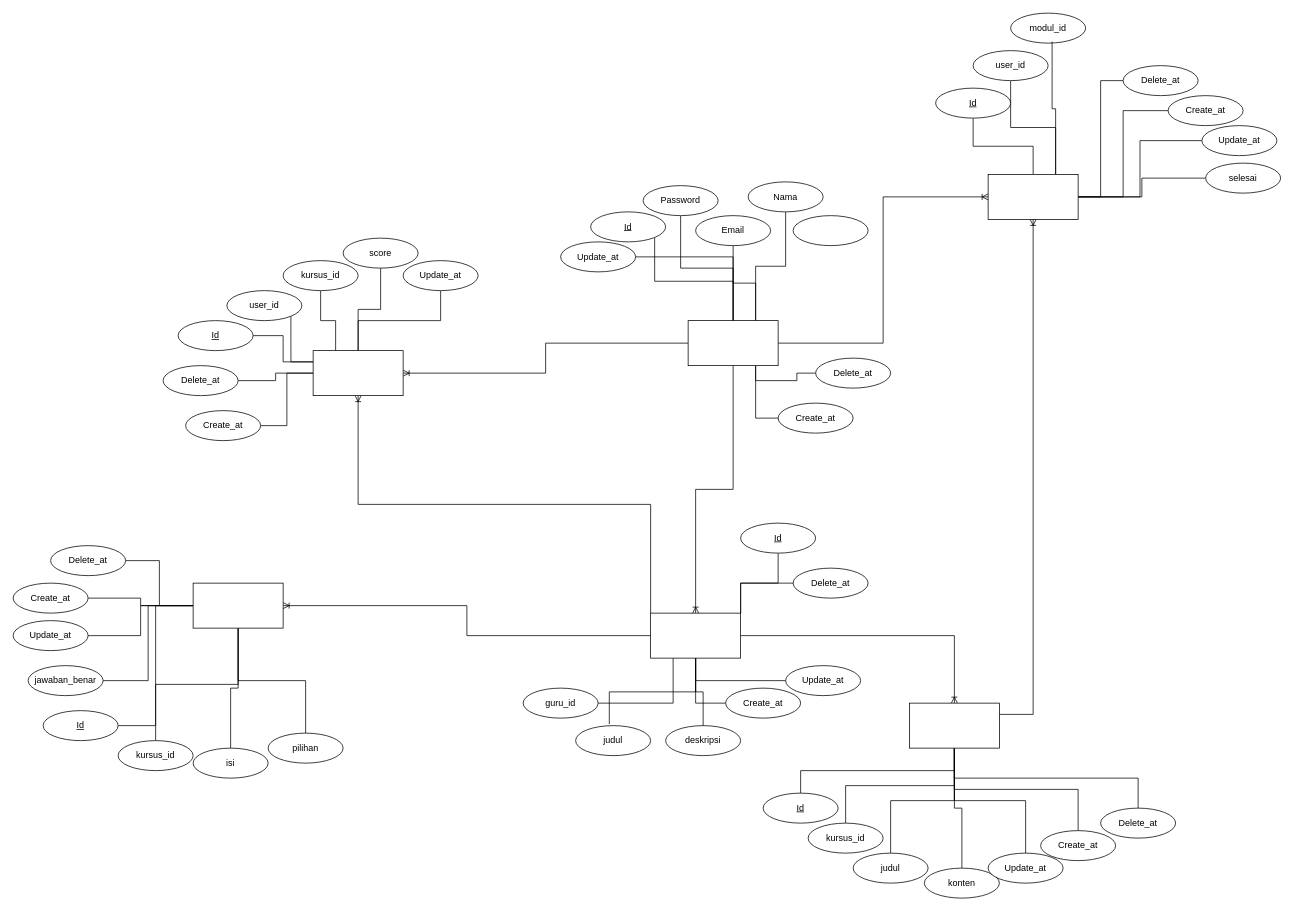
Some shapes in this 1294 by 911 pixel diagram are drawn without their labels. Each missing label, with the centre of its shape:
"Kursus" goes at point 695,635.
"Modul" goes at point 954,725.
"Nilai" goes at point 357,373.
"Progres" goes at point 1032,196.
"Role" goes at point 830,230.
"Soal" goes at point 237,605.
"User" goes at point 732,343.
